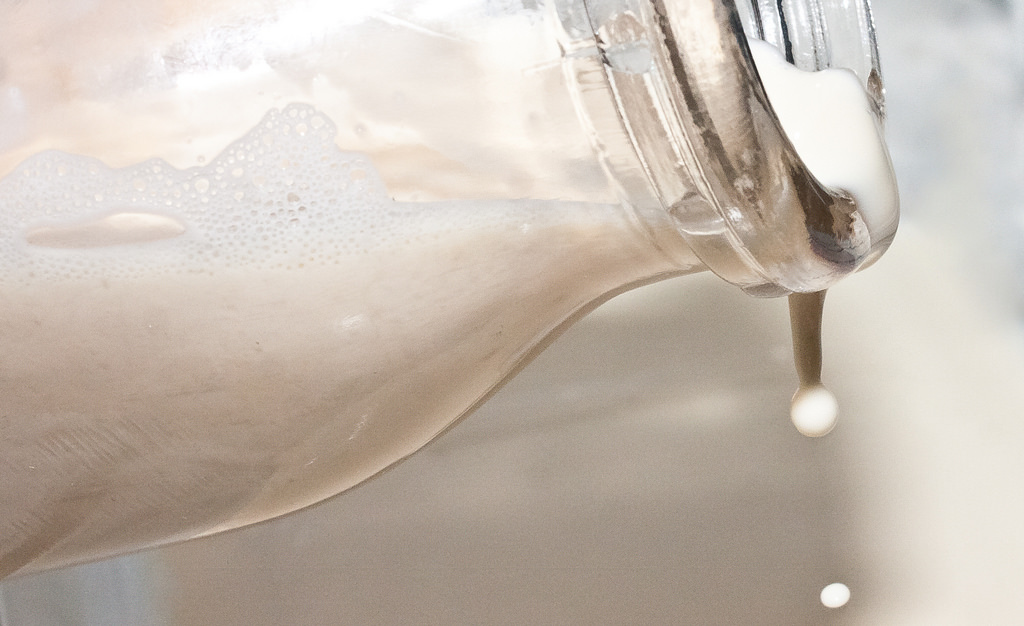glass of milk: (1, 6, 916, 574)
